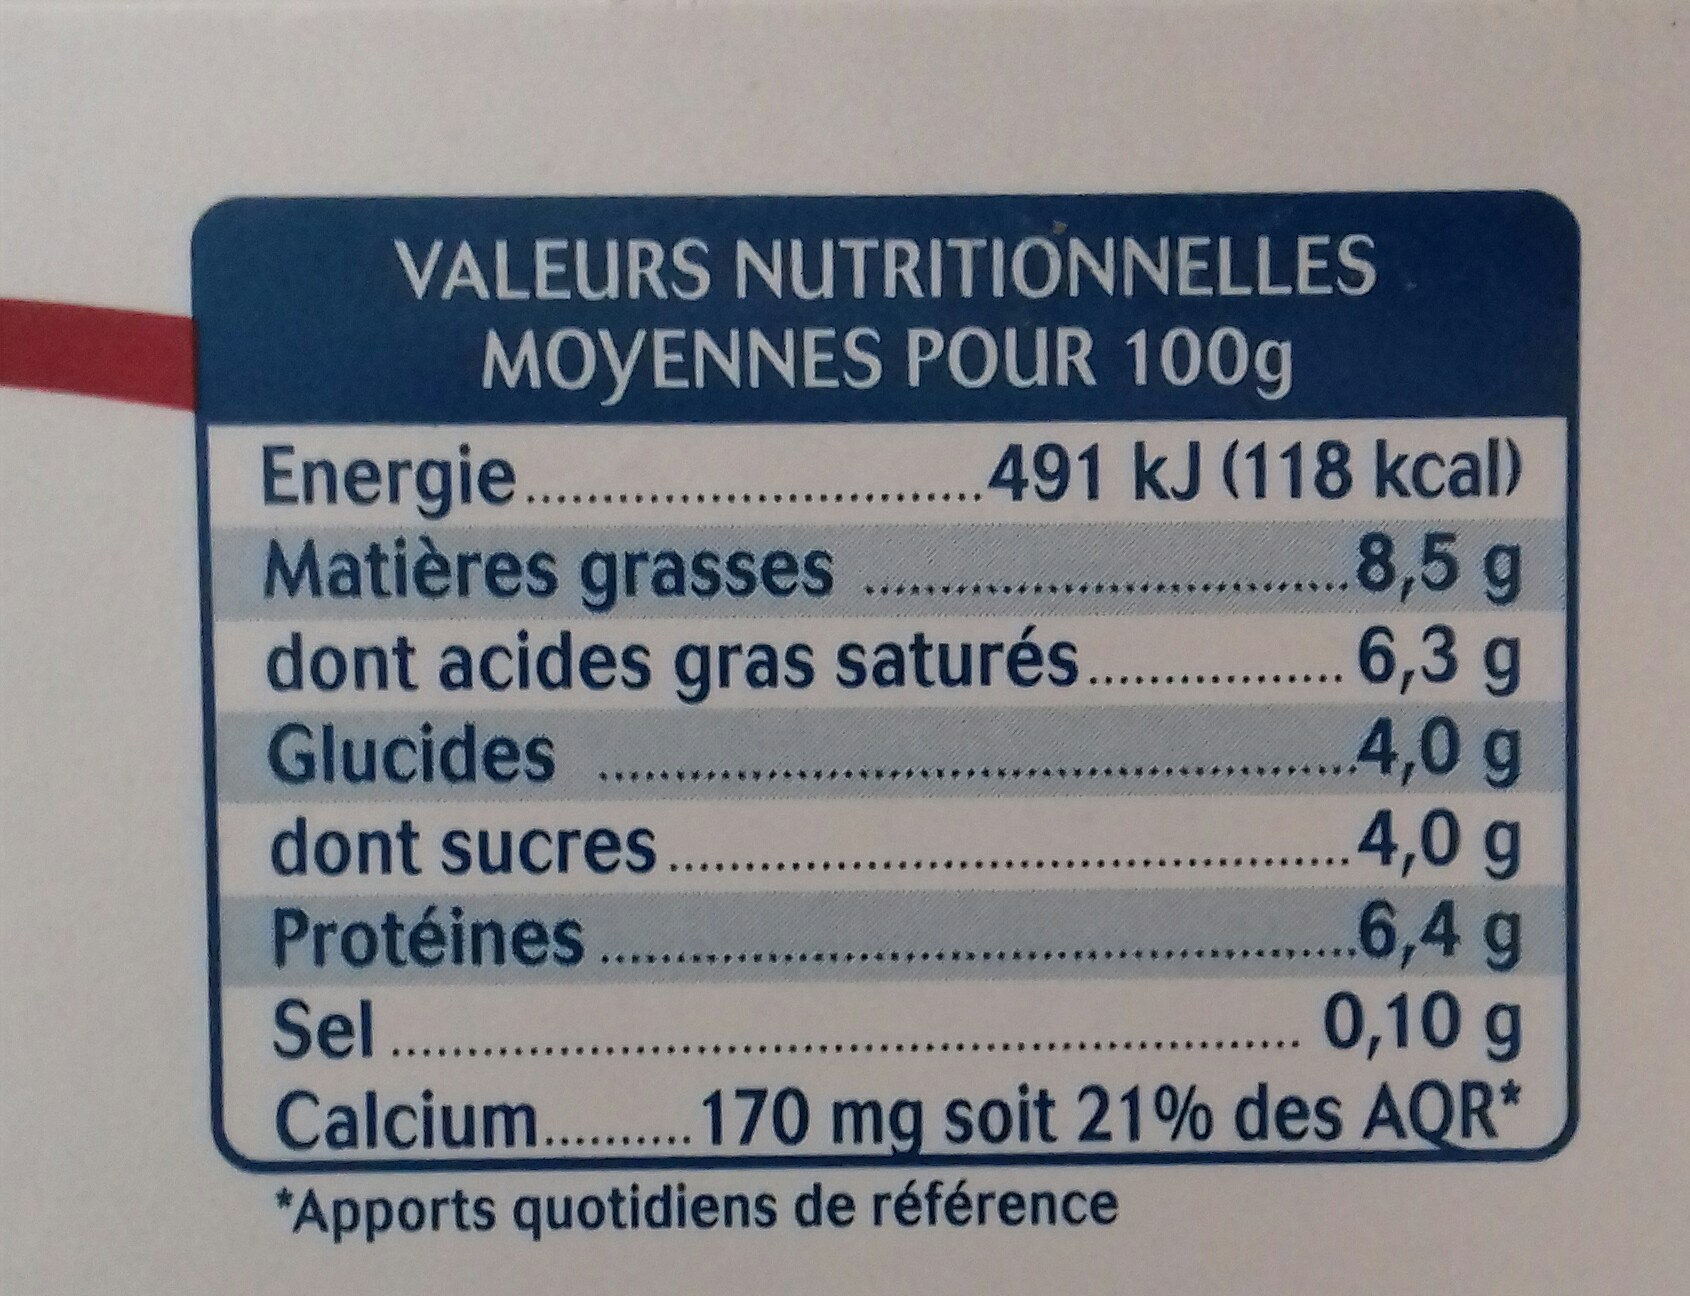table: (193, 193, 1585, 1182)
